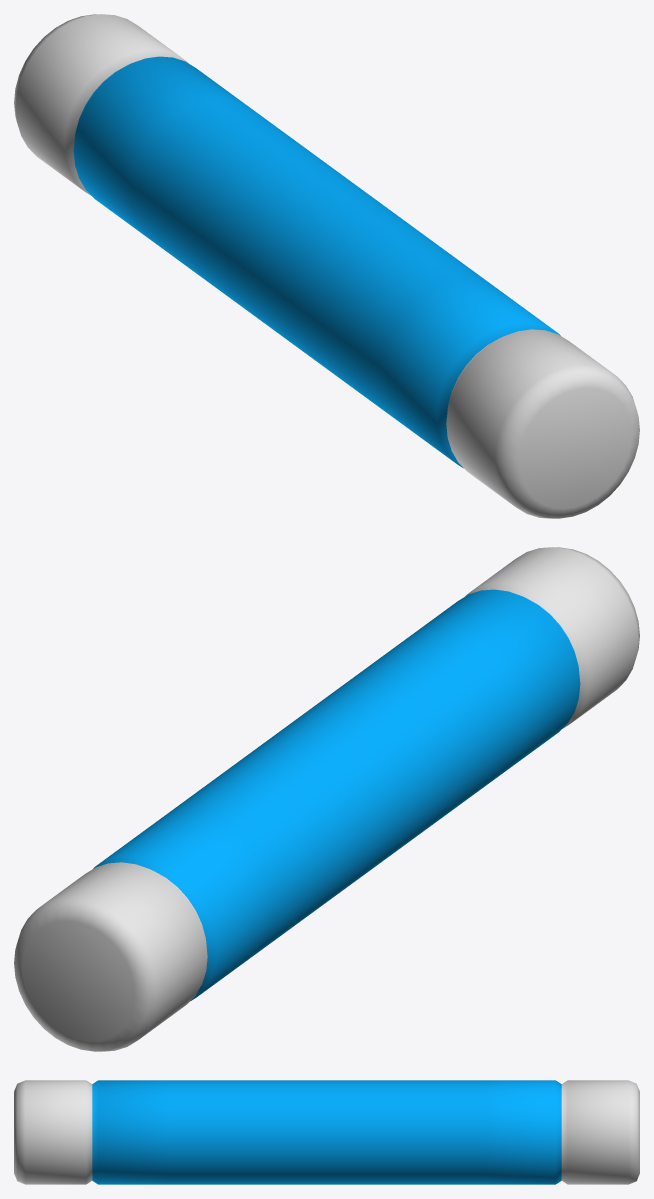
The model's file is props.glb.
3 views of the same model, one above another, from view 1: azimuth 30°, elevation 25°; view 2: azimuth 150°, elevation 25°; view 3: azimuth 270°, elevation 25° (orthographic). The views are drawn at different scales.
Visible parts, largest first — view 1: glowstick; view 2: glowstick; view 3: glowstick.
Part boxes in pixels (bbox=[...]): glowstick: bbox=[14, 14, 639, 518]; glowstick: bbox=[14, 547, 639, 1051]; glowstick: bbox=[14, 1080, 639, 1184].
Size of the model in its own units: 1 by 1 by 6.
